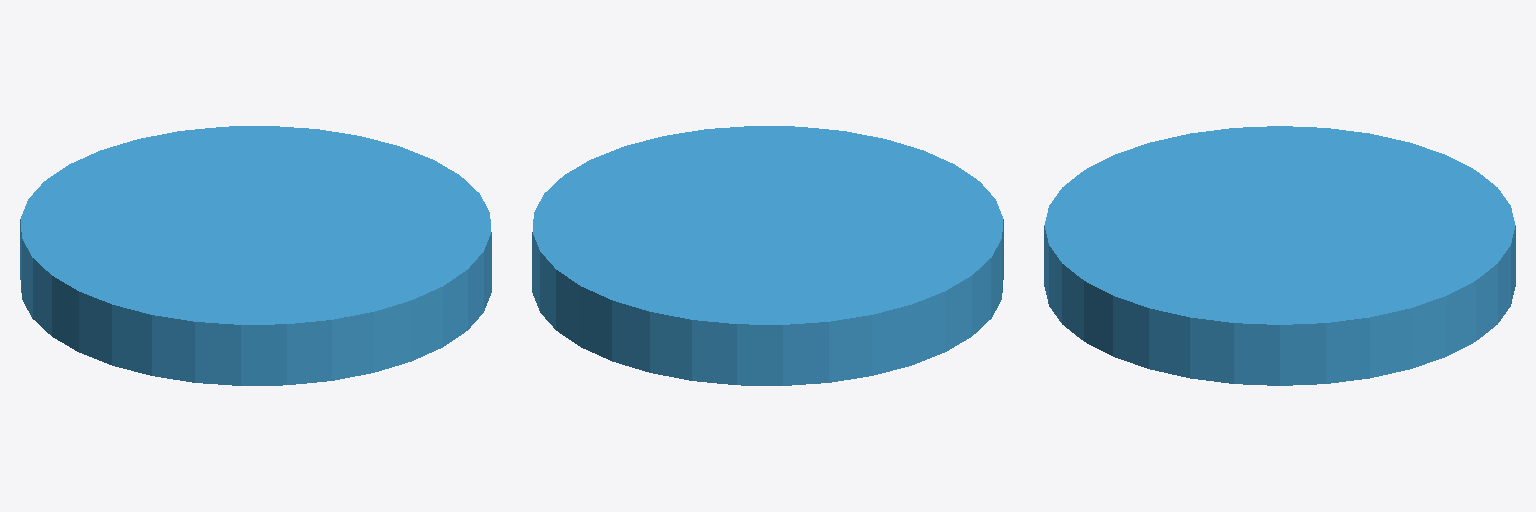
The robot description file, URDF, robot "iiwa7":
<?xml version="1.0" ?>
<!-- =================================================================================== -->
<!-- |    This document was autogenerated by xacro from iiwa_description/urdf/iiwa7.urdf.xacro | -->
<!-- |    EDITING THIS FILE BY HAND IS NOT RECOMMENDED                                 | -->
<!-- =================================================================================== -->
<robot name="iiwa7" xmlns:xacro="http://www.ros.org/wiki/xacro">
  <material name="Black">
    <color rgba="0.0 0.0 0.0 1.0"/>
  </material>
  <material name="Blue">
    <color rgba="0.0 0.0 0.8 1.0"/>
  </material>
  <material name="Green">
    <color rgba="0.0 0.8 0.0 1.0"/>
  </material>
  <material name="Grey">
    <color rgba="0.4 0.4 0.4 1.0"/>
  </material>
  <material name="Orange">
    <color rgba="1.0 0.423529411765 0.0392156862745 1.0"/>
  </material>
  <material name="Brown">
    <color rgba="0.870588235294 0.811764705882 0.764705882353 1.0"/>
  </material>
  <material name="Red">
    <color rgba="0.8 0.0 0.0 1.0"/>
  </material>
  <material name="White">
    <color rgba="1.0 1.0 1.0 1.0"/>
  </material>
  <!-- Fix to world just for testing -->
  <link name="base"/>
  <!--joint between {parent} and link_0-->
  <joint name="world_iiwa_joint" type="fixed">
    <origin rpy="0 0 0" xyz="0 0 0"/>
    <parent link="base"/>
    <child link="iiwa_link_0"/>
  </joint>
  <link name="iiwa_link_0">
    <inertial>
      <origin rpy="0 0 0" xyz="-0.1 0 0.07"/>
      <mass value="5"/>
      <inertia ixx="0.05" ixy="0" ixz="0" iyy="0.06" iyz="0" izz="0.03"/>
    </inertial>
    <visual>
      <origin rpy="0 0 0" xyz="0 0 0"/>
      <geometry>
        <mesh filename="../meshes/iiwa7/visual/link_0.stl"/>
      </geometry>
      <material name="Grey"/>
    </visual>

    
    <collision>
      <origin rpy="0 0 0" xyz="0 0 0.05"/>
      <geometry>
        <sphere radius="0.1"/>
      </geometry>
    </collision>
    
  </link>
  <!-- joint between link_0 and link_1 -->
  <joint name="iiwa_joint_1" type="revolute">
    <parent link="iiwa_link_0"/>
    <child link="iiwa_link_1"/>
    <origin rpy="0 0 0" xyz="0 0 0.15"/>
    <axis xyz="0 0 1"/>
    <limit effort="300" lower="-2.96705972839" upper="2.96705972839" velocity="10"/>
    <safety_controller k_position="100" k_velocity="2" soft_lower_limit="-2.93215314335" soft_upper_limit="2.93215314335"/>
    <dynamics damping="0.5"/>
  </joint>
  <link name="iiwa_link_1">
    <inertial>
      <origin rpy="0 0 0" xyz="0 -0.03 0.12"/>
      <mass value="3.4525"/>
      <inertia ixx="0.02183" ixy="0" ixz="0" iyy="0.007703" iyz="-0.003887" izz="0.02083"/>
    </inertial>
    <visual>
      <origin rpy="0 0 0" xyz="0 0 0.0075"/>
      <geometry>
        <mesh filename="../meshes/iiwa7/visual/link_1.stl"/>
      </geometry>
      <material name="Orange"/>
    </visual>
    
    <collision>
      <origin rpy="0 0 0" xyz="0 0 0.025"/>
      <geometry>
        <sphere radius="0.06"/>
      </geometry>
    </collision>
    <collision>
      <origin rpy="0 0 0" xyz="0 -0.05 0.1"/>
      <geometry>
        <sphere radius="0.04"/>
      </geometry>
    </collision>
    <collision>
      <origin rpy="0 0 0" xyz="0 -0.07 0.175"/>
      <geometry>
        <sphere radius="0.05"/>
      </geometry>
    </collision>
    
  </link>
  <joint name="iiwa_joint_2" type="revolute">
    <parent link="iiwa_link_1"/>
    <child link="iiwa_link_2"/>
    <origin rpy="1.57079632679   0 3.14159265359" xyz="0 0 0.19"/>
    <axis xyz="0 0 1"/>
    <limit effort="300" lower="-2.09439510239" upper="2.09439510239" velocity="10"/>
    <safety_controller k_position="100" k_velocity="2" soft_lower_limit="-2.05948851735" soft_upper_limit="2.05948851735"/>
    <dynamics damping="0.5"/>
  </joint>
  <link name="iiwa_link_2">
    <inertial>
      <origin rpy="0 0 0" xyz="0.0003 0.059 0.042"/>
      <mass value="3.4821"/>
      <inertia ixx="0.02076" ixy="0" ixz="-0.003626" iyy="0.02179" iyz="0" izz="0.00779"/>
    </inertial>
    <visual>
      <origin rpy="0 0 0" xyz="0 0 0"/>
      <geometry>
        <mesh filename="../meshes/iiwa7/visual/link_2.stl"/>
      </geometry>
      <material name="Orange"/>
    </visual>
    
    <collision>
      <origin rpy="0 0 0" xyz="0 0 0.05"/>
      <geometry>
        <sphere radius="0.06"/>
      </geometry>
    </collision>
    <collision>
      <origin rpy="0 0 0" xyz="0 0.1 0.05"/>
      <geometry>
        <sphere radius="0.04"/>
      </geometry>
    </collision>
    
  </link>
  <joint name="iiwa_joint_3" type="revolute">
    <parent link="iiwa_link_2"/>
    <child link="iiwa_link_3"/>
    <origin rpy="1.57079632679 0 3.14159265359" xyz="0 0.21 0"/>
    <axis xyz="0 0 1"/>
    <limit effort="300" lower="-2.96705972839" upper="2.96705972839" velocity="10"/>
    <safety_controller k_position="100" k_velocity="2" soft_lower_limit="-2.93215314335" soft_upper_limit="2.93215314335"/>
    <dynamics damping="0.5"/>
  </joint>
  <link name="iiwa_link_3">
    <inertial>
      <origin rpy="0 0 0" xyz="0 0.03 0.13"/>
      <mass value="4.05623"/>
      <inertia ixx="0.03204" ixy="0" ixz="0" iyy="0.00972" iyz="0.006227" izz="0.03042"/>
    </inertial>
    <visual>
      <origin rpy="0 0 0" xyz="0 0 -0.026"/>
      <geometry>
        <mesh filename="../meshes/iiwa7/visual/link_3.stl"/>
      </geometry>
      <material name="Orange"/>
    </visual>
    
    <collision>
      <origin rpy="0 0 0" xyz="0 0 0.0"/>
      <geometry>
        <sphere radius="0.07"/>
      </geometry>
    </collision>
    <collision>
      <origin rpy="0 0 0" xyz="0 0.05 0.19"/>
      <geometry>
        <sphere radius="0.06"/>
      </geometry>
    </collision>
    <collision>
      <origin rpy="0 0 0" xyz="0 0.05 0.1"/>
      <geometry>
        <sphere radius="0.04"/>
      </geometry>
    </collision>
    

  </link>
  <joint name="iiwa_joint_4" type="revolute">
    <parent link="iiwa_link_3"/>
    <child link="iiwa_link_4"/>
    <origin rpy="1.57079632679 0 0" xyz="0 0 0.19"/>
    <axis xyz="0 0 1"/>
    <limit effort="300" lower="-2.09439510239" upper="2.09439510239" velocity="10"/>
    <safety_controller k_position="100" k_velocity="2" soft_lower_limit="-2.05948851735" soft_upper_limit="2.05948851735"/>
    <dynamics damping="0.5"/>
  </joint>
  <link name="iiwa_link_4">
    <inertial>
      <origin rpy="0 0 0" xyz="0 0.067 0.034"/>
      <mass value="3.4822"/>
      <inertia ixx="0.02178" ixy="0" ixz="0" iyy="0.02075" iyz="-0.003625" izz="0.007785"/>
    </inertial>
    <visual>
      <origin rpy="0 0 0" xyz="0 0 0"/>
      <geometry>
        <mesh filename="../meshes/iiwa7/visual/link_4.stl"/>
      </geometry>
      <material name="Orange"/>
    </visual>
    
    
    <collision>
      <origin rpy="0 0 0" xyz="0 0 0.04"/>
      <geometry>
        <sphere radius="0.07"/>
      </geometry>
    </collision>
    <collision>
      <origin rpy="0 0 0" xyz="0 0.1 0.04"/>
      <geometry>
        <sphere radius="0.06"/>
      </geometry>
    </collision>
  </link>
  <joint name="iiwa_joint_5" type="revolute">
    <parent link="iiwa_link_4"/>
    <child link="iiwa_link_5"/>
    <origin rpy="-1.57079632679 3.14159265359 0" xyz="0 0.21 0"/>
    <axis xyz="0 0 1"/>
    <limit effort="300" lower="-2.96705972839" upper="2.96705972839" velocity="10"/>
    <safety_controller k_position="100" k_velocity="2" soft_lower_limit="-2.93215314335" soft_upper_limit="2.93215314335"/>
    <dynamics damping="0.5"/>
  </joint>
  <link name="iiwa_link_5">
    <inertial>
      <origin rpy="0 0 0" xyz="0.0001 0.021 0.076"/>
      <mass value="2.1633"/>
      <inertia ixx="0.01287" ixy="0" ixz="0" iyy="0.005708" iyz="-0.003946" izz="0.01112"/>
    </inertial>
    <visual>
      <origin rpy="0 0 0" xyz="0 0 -0.026"/>
      <geometry>
        <mesh filename="../meshes/iiwa7/visual/link_5.stl"/>
      </geometry>
      <material name="Orange"/>
    </visual>
    
    <collision>
      <origin rpy="0 0 0" xyz="0 0 0.0"/>
      <geometry>
        <sphere radius="0.075"/>
      </geometry>
    </collision>
  </link>
  <joint name="iiwa_joint_6" type="revolute">
    <parent link="iiwa_link_5"/>
    <child link="iiwa_link_6"/>
    <origin rpy="1.57079632679 0 0" xyz="0 0.06070 0.19"/>
    <axis xyz="0 0 1"/>
    <limit effort="300" lower="-2.09439510239" upper="2.09439510239" velocity="10"/>
    <safety_controller k_position="100" k_velocity="2" soft_lower_limit="-2.05948851735" soft_upper_limit="2.05948851735"/>
    <dynamics damping="0.5"/>
  </joint>
  <link name="iiwa_link_6">
    <inertial>
      <origin rpy="0 0 0" xyz="0 0.0006 0.0004"/>
      <mass value="2.3466"/>
      <inertia ixx="0.006509" ixy="0" ixz="0" iyy="0.006259" iyz="0.00031891" izz="0.004527"/>
    </inertial>
    <visual>
      <origin rpy="0 0 0" xyz="0 0 0"/>
      <geometry>
        <mesh filename="../meshes/iiwa7/visual/link_6.stl"/>
      </geometry>
      <material name="Orange"/>
    </visual>

    
    <collision>
      <origin rpy="0 0 0" xyz="0 -0.02 0.07"/>
      <geometry>
        <sphere radius="0.065"/>
      </geometry>
    </collision>
    <collision>
      <origin rpy="0 0 0" xyz="0 0 0.011"/>
      <geometry>
        <sphere radius="0.055"/>
      </geometry>
    </collision>
  </link>
  <joint name="iiwa_joint_7" type="revolute">
    <parent link="iiwa_link_6"/>
    <child link="iiwa_link_7"/>
    <origin rpy="-1.57079632679 3.14159265359 0" xyz="0 0.081 0.06070"/>
    <axis xyz="0 0 1"/>
    <limit effort="300" lower="-3.05432619099" upper="3.05432619099" velocity="10"/>
    <safety_controller k_position="100" k_velocity="2" soft_lower_limit="-3.01941960595" soft_upper_limit="3.01941960595"/>
    <dynamics damping="0.5"/>
  </joint>
  <link name="iiwa_link_7">
    <inertial>
      <origin rpy="0 0 0" xyz="0 0 0.02"/>
      <mass value="3.129"/>
      <inertia ixx="0.01464" ixy="0.0005912" ixz="0" iyy="0.01465" iyz="0" izz="0.002872"/>
    </inertial>
    <visual>
      <origin rpy="0 0 0" xyz="0 0 -0.0005"/>
      <geometry>
        <mesh filename="../meshes/iiwa7/visual/link_7.stl"/>
      </geometry>
      <material name="Grey"/>
    </visual>
    <collision>
      <geometry>
        <sphere radius="0.055"/>
      </geometry>
    </collision>
    
  </link>
  <joint name="iiwa_joint_ee" type="fixed">
    <parent link="iiwa_link_7"/>
    <child link="iiwa_link_ee"/>
    <origin rpy="0 0 0" xyz="0 0 0.045"/>
  </joint>
  <link name="iiwa_link_ee">
    <visual>
      <origin rpy="0 0 0" xyz="0 0 0.009"/>
      <geometry>
        <cylinder length="0.02" radius="0.07"/>
      </geometry>
    </visual>
    <collision>
      <origin rpy="0 0 0" xyz="0 0 0.009"/>
      <geometry>
        <cylinder length="0.02" radius="0.07"/>
      </geometry>
    </collision>
  </link>
</robot>

--- Render facts (derived) ---
The picture shows the robot from 3 angles, left to right: view 1: azimuth 30°, elevation 25°; view 2: azimuth 150°, elevation 25°; view 3: azimuth 270°, elevation 25°; orthographic projection.
Robot: iiwa7 — 10 links, 9 joints (7 revolute, 2 fixed); root link base; default pose: every joint at zero.
Links seen in each view (by area): view 1: iiwa_link_ee; view 2: iiwa_link_ee; view 3: iiwa_link_ee.
Boxes of the visible links, <box> form: iiwa_link_ee: <box>20,126,491,385</box>; iiwa_link_ee: <box>532,126,1003,385</box>; iiwa_link_ee: <box>1044,126,1515,385</box>.
Size in the robot's own frame: 0.14 by 0.14 by 0.02 metres.
0 mesh visuals loaded from 8 distinct referenced files (none loaded); not drawn: 8 (reference not matched to a file when rendering).